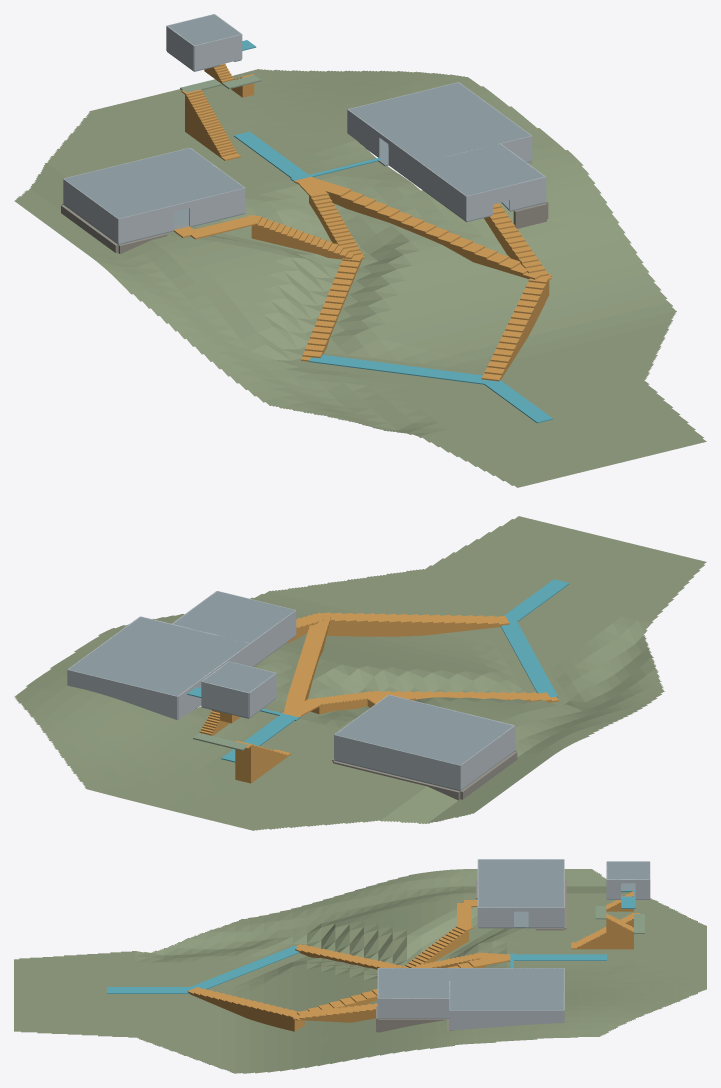
The model's file is open-circulation.glb.
3 renders of one model, top to bottom at view 1: azimuth 30°, elevation 25°; view 2: azimuth 150°, elevation 25°; view 3: azimuth 270°, elevation 25°, orthographic. The views are drawn at different scales.
Visible parts, largest first — view 1: Saved editor stair bench terrain WLD-04, Ceiling cap ruin, Ceiling cap hut, Ceiling cap store, Bayed shell Wall hut S, Opened stair shell Wall store S, L02 support 0, Wall hut W, Ceiling cap cab, Wall cab S, Wall store W, Flat route shell Wall ruin W (+2 smaller); view 2: Saved editor stair bench terrain WLD-04, Ceiling cap ruin, Ceiling cap hut, Ceiling cap store, Wall hut N, Wall ruin N, Wall hut W, L02 support 0, Ceiling cap cab, Wall cab N, Wall store W, Wall cab W (+3 smaller); view 3: Saved editor stair bench terrain WLD-04, Ceiling cap ruin, Ceiling cap hut, Ceiling cap store, Wall ruin E, Wall store E, L02 support 0, Ceiling cap cab, Flat route shell Wall hut E.001, Flat route shell Wall hut E, Bayed stair WLD-04 L06 step1.
Boxes of the visible parts, bbox=[...] form: Saved editor stair bench terrain WLD-04: bbox=[14, 69, 706, 487]; Ceiling cap ruin: bbox=[348, 82, 530, 162]; Ceiling cap hut: bbox=[64, 148, 243, 218]; Ceiling cap store: bbox=[421, 144, 544, 195]; Bayed shell Wall hut S: bbox=[118, 188, 245, 243]; Opened stair shell Wall store S: bbox=[466, 177, 545, 220]; L02 support 0: bbox=[308, 354, 489, 384]; Wall hut W: bbox=[63, 179, 118, 243]; Ceiling cap cab: bbox=[168, 14, 241, 45]; Wall cab S: bbox=[194, 34, 241, 70]; Wall store W: bbox=[420, 163, 466, 220]; Flat route shell Wall ruin W: bbox=[347, 109, 380, 157]; Saved editor stair bench terrain WLD-04: bbox=[14, 516, 706, 830]; Ceiling cap ruin: bbox=[68, 617, 249, 696]; Ceiling cap hut: bbox=[335, 695, 513, 765]; Ceiling cap store: bbox=[173, 591, 294, 643]; Wall hut N: bbox=[334, 735, 460, 790]; Wall ruin N: bbox=[67, 669, 177, 720]; Wall hut W: bbox=[460, 725, 515, 789]; L02 support 0: bbox=[500, 620, 558, 697]; Ceiling cap cab: bbox=[202, 661, 275, 692]; Wall cab N: bbox=[201, 681, 248, 717]; Wall store W: bbox=[250, 610, 296, 666]; Wall cab W: bbox=[249, 673, 276, 717]; Saved editor stair bench terrain WLD-04: bbox=[14, 869, 706, 1073]; Ceiling cap ruin: bbox=[449, 968, 563, 1010]; Ceiling cap hut: bbox=[478, 859, 563, 907]; Ceiling cap store: bbox=[378, 968, 449, 998]; Wall ruin E: bbox=[449, 1010, 563, 1029]; Wall store E: bbox=[378, 998, 449, 1017]; L02 support 0: bbox=[191, 946, 299, 989]; Ceiling cap cab: bbox=[607, 861, 649, 879]; Flat route shell Wall hut E.001: bbox=[478, 907, 513, 927]; Flat route shell Wall hut E: bbox=[528, 907, 563, 927]; Bayed stair WLD-04 L06 step1: bbox=[457, 903, 471, 927].
Size of the model in its own units: 59 by 19.15 by 97.
